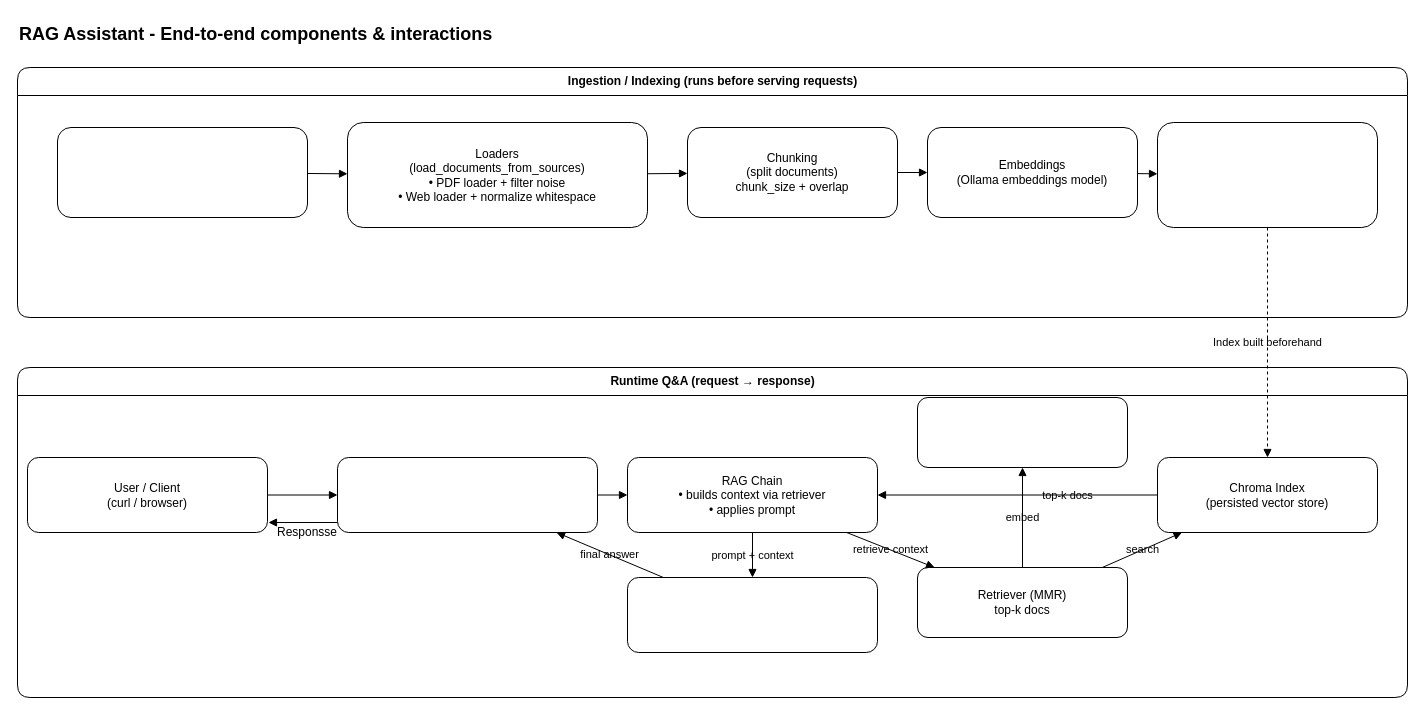
Some shapes in this 1425 by 715 pixel diagram are drawn without their labels. Each missing label, with the centre of its shape:
"Chat Model (Ollama LLM)" goes at (x=752, y=614).
"FastAPI App + LangServe route /rag/invoke" goes at (x=467, y=494).
"Query embedding (Ollama embeddings)" goes at (x=1022, y=432).
"Sources - PDF(s) in /doc - Web URL(s) in sources.yaml" goes at (x=182, y=172).
"Vector Store Chroma (persisted) index_store + current.txt" goes at (x=1267, y=175).
